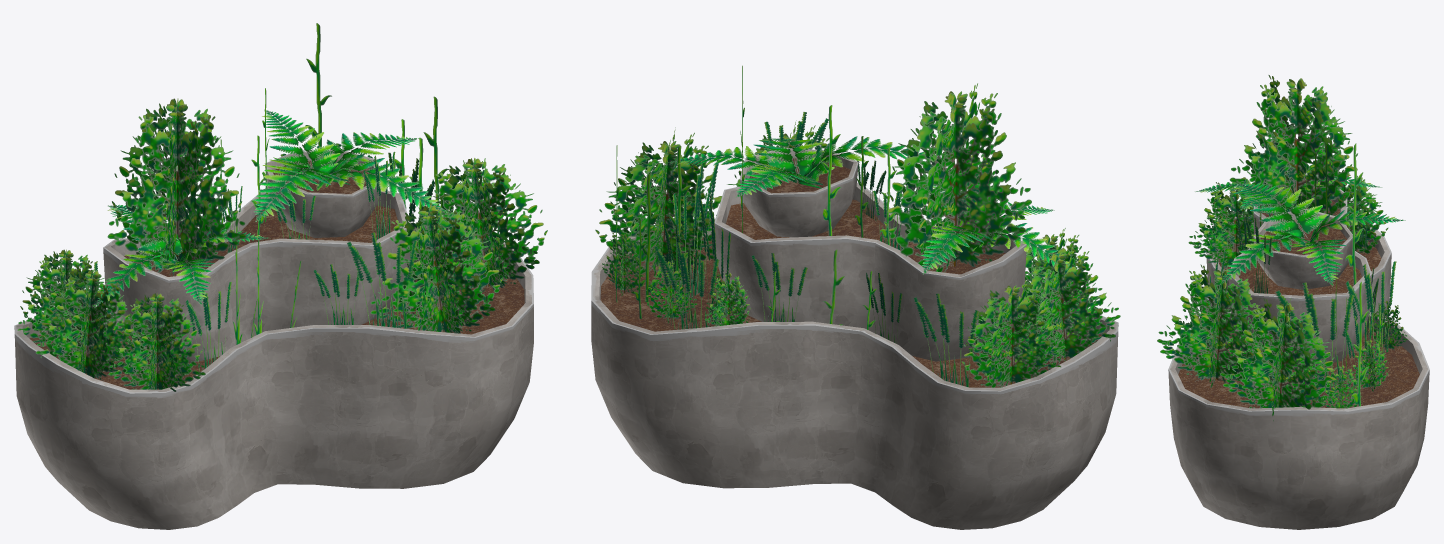
Rendered from SM_PropsHUB_StreetPot_B.fbx.
3 renders of one model, left to right at view 1: azimuth 30°, elevation 25°; view 2: azimuth 150°, elevation 25°; view 3: azimuth 270°, elevation 25°, orthographic. The views are drawn at different scales.
Parts seen in each view (by area): view 1: SM_Cantero_B; view 2: SM_Cantero_B; view 3: SM_Cantero_B.
Boxes of the visible parts, left/top/right/bottom form: SM_Cantero_B: left=14, top=23, right=547, bottom=529; SM_Cantero_B: left=591, top=65, right=1120, bottom=529; SM_Cantero_B: left=1157, top=75, right=1429, bottom=529.
Size of the model in its own units: 332 by 264 by 182.
